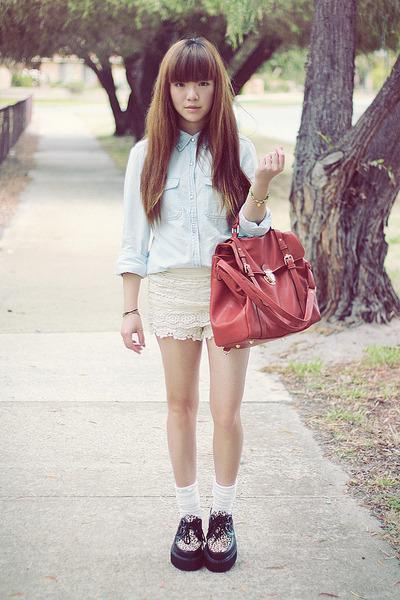bag: (209, 228, 319, 351)
shirt: (117, 132, 268, 274)
shoe: (171, 513, 236, 572)
skirt: (132, 260, 213, 347)
